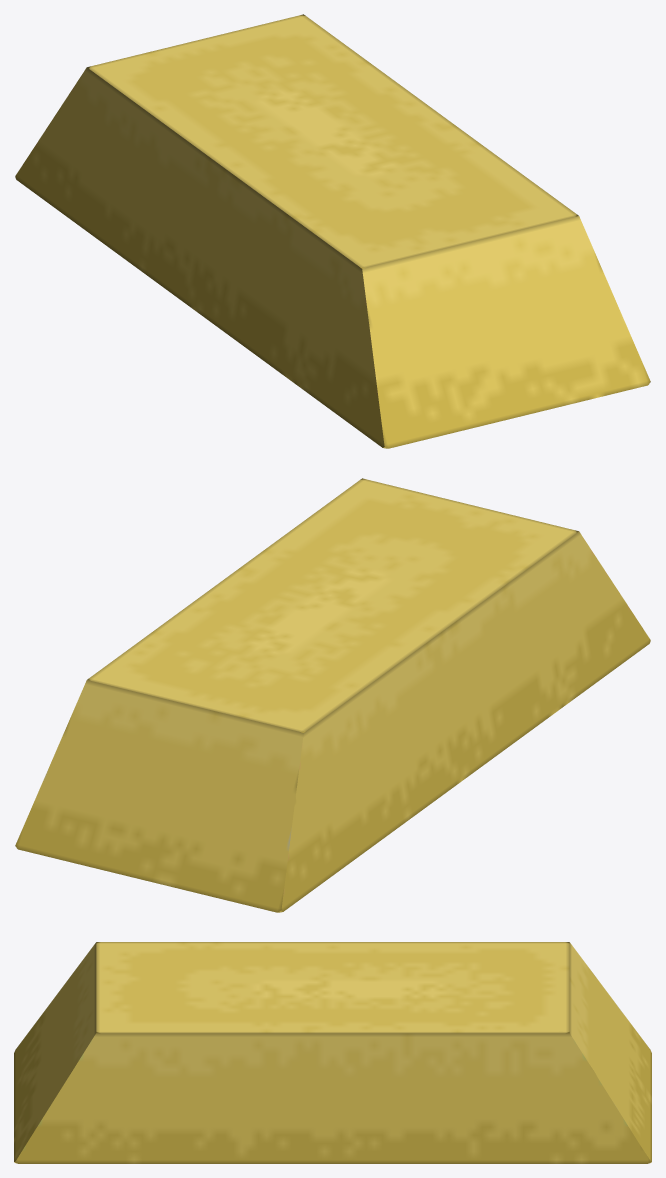
Rendered from Gold.fbx.
The picture shows the model from 3 angles, top to bottom: view 1: azimuth 30°, elevation 25°; view 2: azimuth 150°, elevation 25°; view 3: azimuth 270°, elevation 25°; orthographic projection. The views are drawn at different scales.
Parts seen in each view (by area): view 1: mesh; view 2: mesh; view 3: mesh.
Part boxes in pixels (x1,y1,x2,y2): mesh: (15,14,650,448); mesh: (15,478,650,912); mesh: (14,942,651,1163).
Bounding box in the file's own units: 100 × 50 × 241.
Materials: 1 (1 with a texture image).
